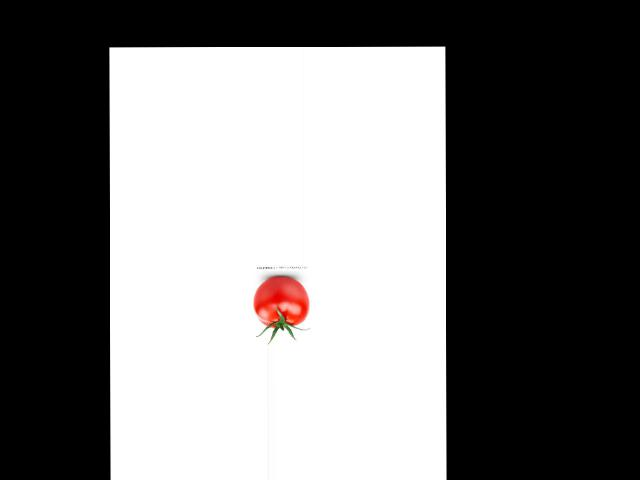tomato: (252, 277, 309, 327)
